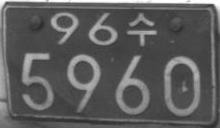0: (163, 54, 201, 117)
5: (20, 51, 56, 111)
6: (114, 54, 151, 115), (88, 11, 118, 47)
9: (66, 53, 102, 114), (49, 10, 80, 44)
수: (127, 11, 158, 45)
